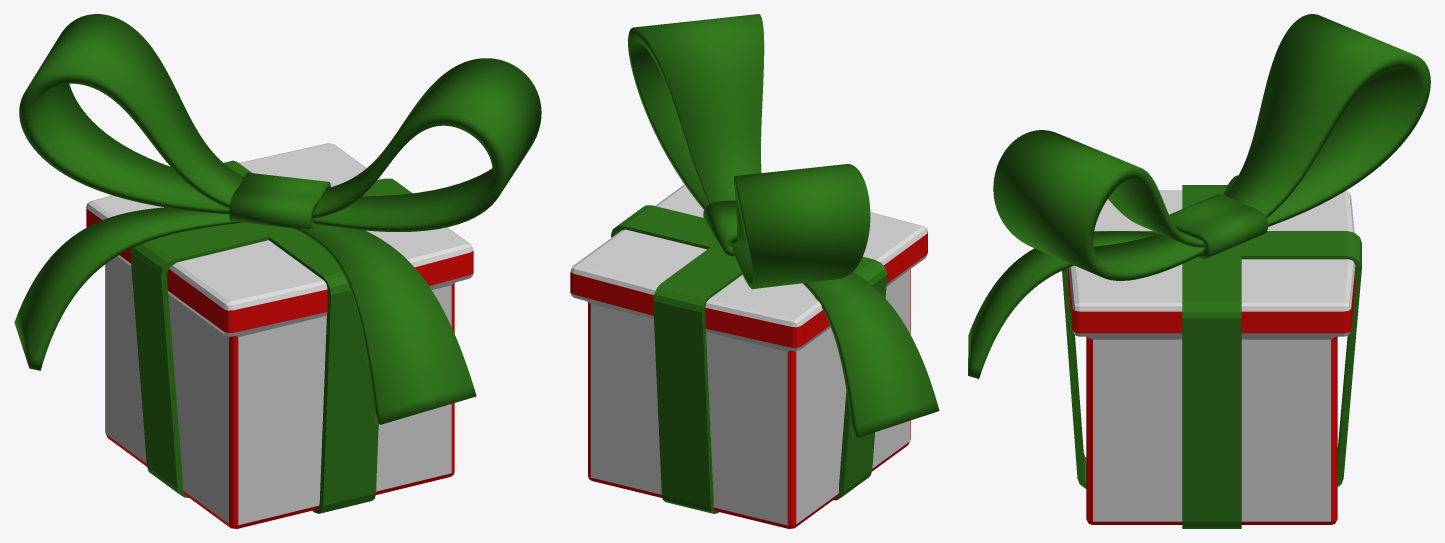
Rendered from GiftBoxTall.fbx.
The picture shows the model from 3 angles, left to right: view 1: azimuth 30°, elevation 25°; view 2: azimuth 150°, elevation 25°; view 3: azimuth 270°, elevation 25°; orthographic projection. The views are drawn at different scales.
Parts seen in each view (by area): view 1: NurbsPath.016, Cube.015, Cube.016; view 2: Cube.015, NurbsPath.016, Cube.016; view 3: Cube.015, NurbsPath.016, Cube.016.
Part boxes in pixels (x1,y1,x2,y2): NurbsPath.016: [14, 14, 541, 424]; Cube.015: [86, 143, 473, 528]; Cube.016: [130, 160, 411, 513]; Cube.015: [570, 184, 927, 528]; NurbsPath.016: [628, 14, 939, 437]; Cube.016: [611, 205, 887, 513]; Cube.015: [1068, 190, 1355, 524]; NurbsPath.016: [968, 14, 1430, 378]; Cube.016: [1062, 185, 1361, 528].
Size of the model in its own units: 377 by 337 by 368.
